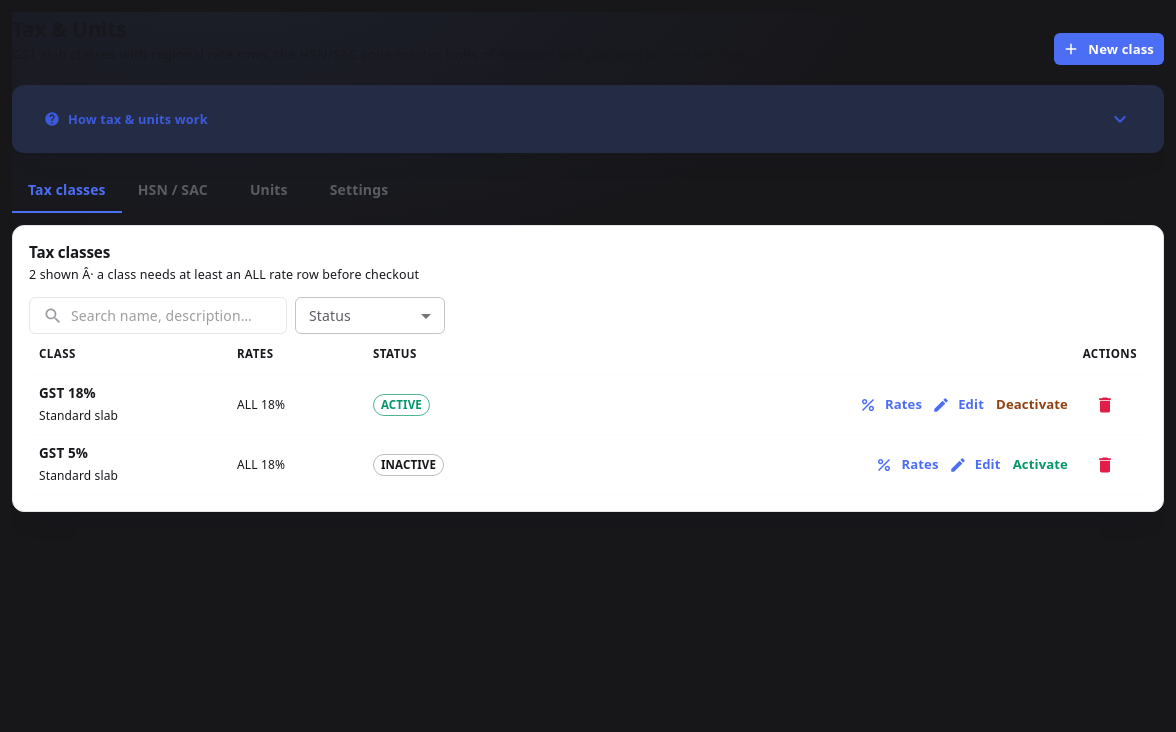
Test: TaxAdminView (admin) › switches to the Units tab
Click the tab "Units": (269, 190) [224, 166, 314, 214]
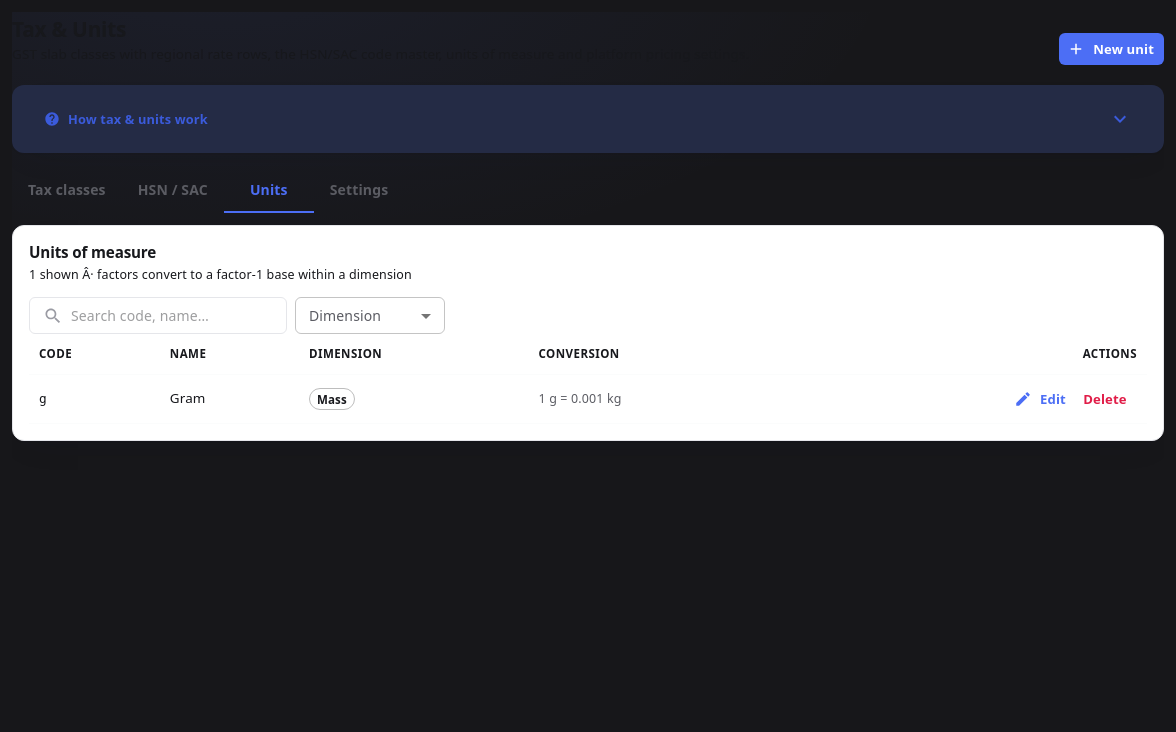
expect the heading "Units of measure" is shown: met, box [29, 242, 156, 262]
expect the button "New unit" is shown: met, box [1059, 34, 1164, 66]
expect the text "g" is shown: met, box [29, 375, 160, 424]
